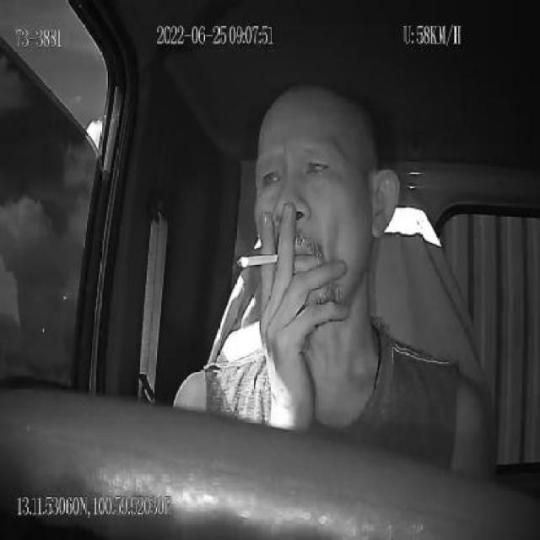smoking: (236, 252, 280, 269)
